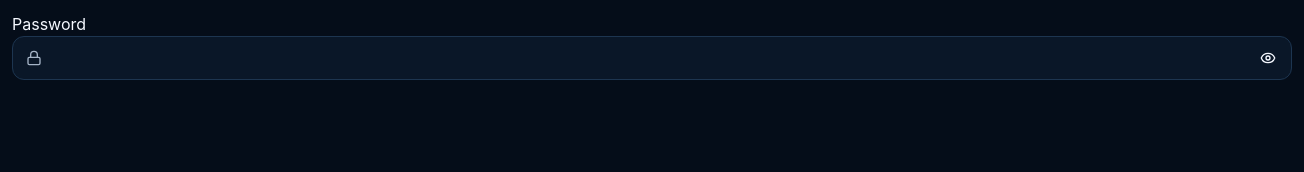
Scenario: PasswordInput › toggles between password and text, keeping the typed value
This screenshot has width=1304, height=172.
Type "NeonValkyrie99!" into the password field labelled "Password".
click(652, 58); type("NeonValkyrie99!")  # box top-left (12, 36), bottom-right (1292, 80)
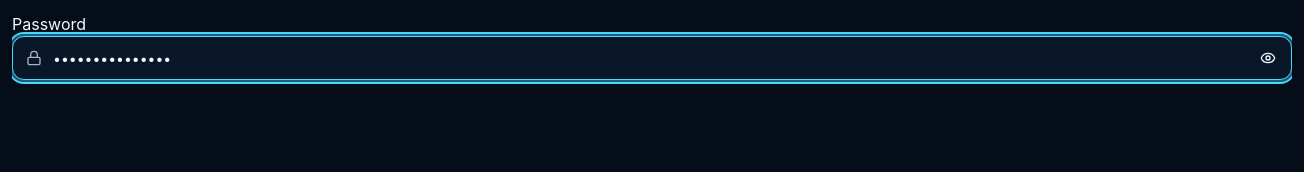
Click the button named "Show password".
click(1268, 58)  # box top-left (1250, 40), bottom-right (1286, 76)
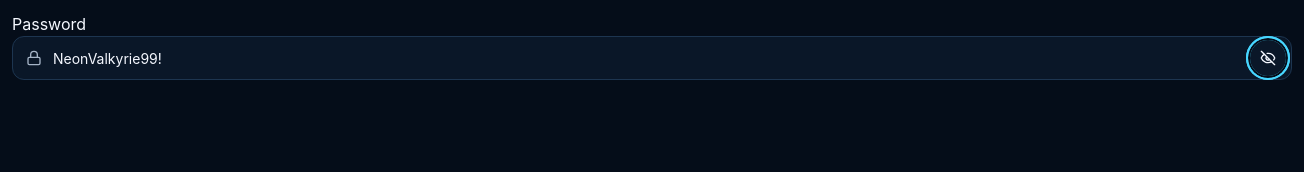
Now the field labelled "Password" shows its text, box top-left (12, 36), bottom-right (1292, 80)
Click the button named "Show password".
click(1268, 58)  # box top-left (1250, 40), bottom-right (1286, 76)
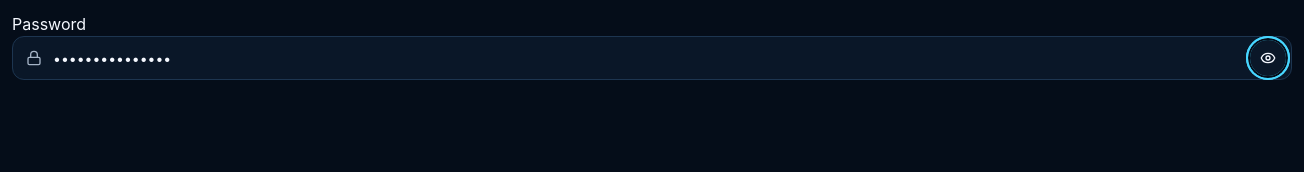
Now the password field labelled "Password" hides its text, box top-left (12, 36), bottom-right (1292, 80)
